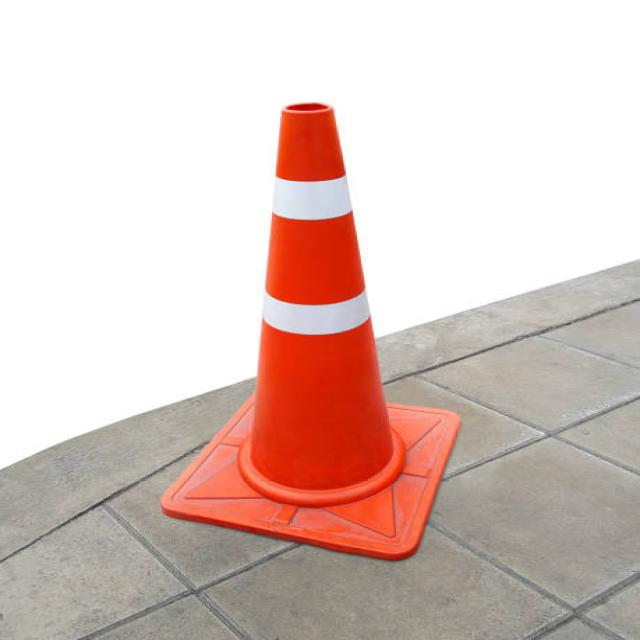Traffic Cone: (107, 78, 507, 591)
